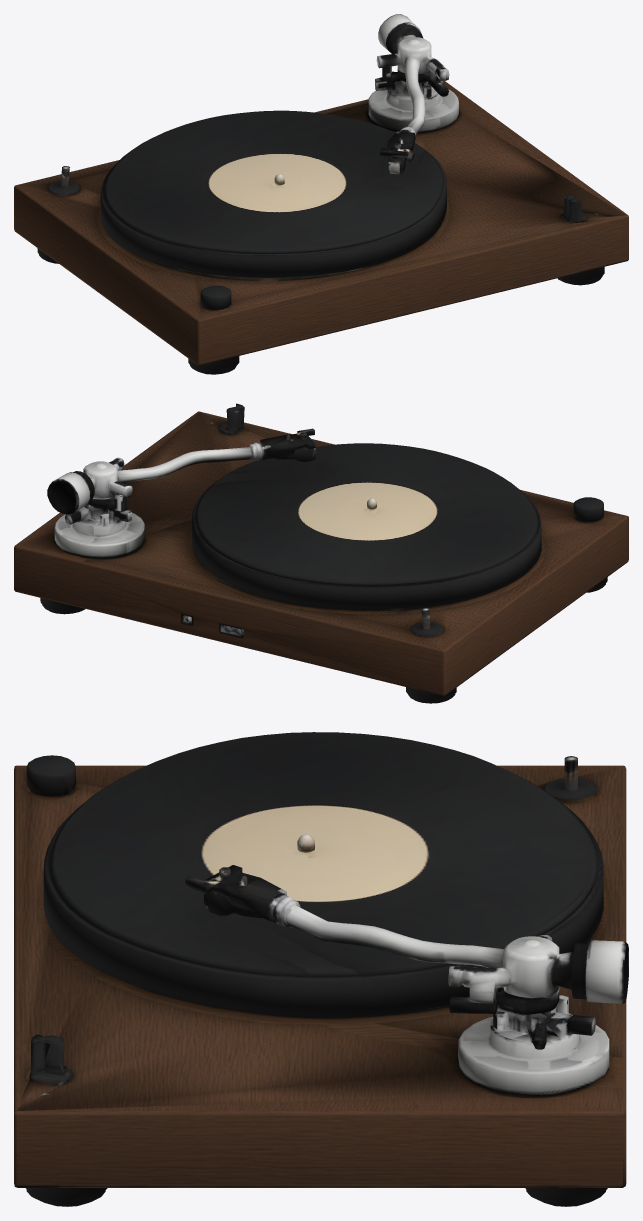
The model's file is turntable-low.glb.
3 views of the same model, one above another, from view 1: azimuth 30°, elevation 25°; view 2: azimuth 150°, elevation 25°; view 3: azimuth 270°, elevation 25° (orthographic). The views are drawn at different scales.
Visible parts, largest first — view 1: mesh_rep_0_ori_repair_quad; view 2: mesh_rep_0_ori_repair_quad; view 3: mesh_rep_0_ori_repair_quad.
Boxes of the visible parts, left/top/right/bottom form: mesh_rep_0_ori_repair_quad: left=14, top=14, right=628, bottom=374; mesh_rep_0_ori_repair_quad: left=14, top=403, right=628, bottom=703; mesh_rep_0_ori_repair_quad: left=14, top=732, right=628, bottom=1206.
Size of the model in its own units: 0.9508 by 0.3003 by 0.7092.
Materials: 1 (1 with a texture image).
